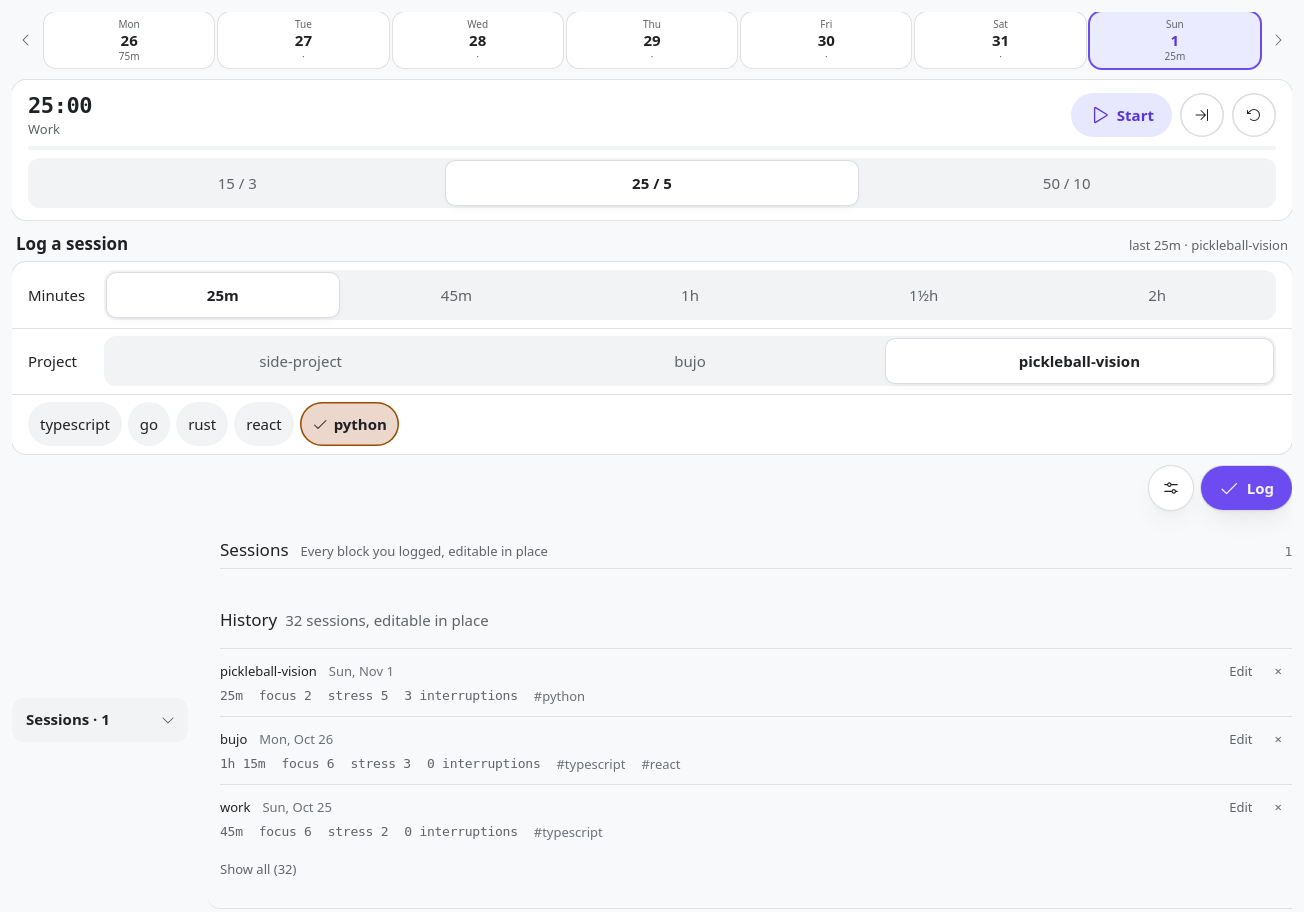
Test: Focus · on a phone › logs a session from taps alone, carrying the rest from the last one
The width and height of the screenshot is (1304, 912).
Click the radio button labelled "45m" at (456, 295), box [341,273,572,317]
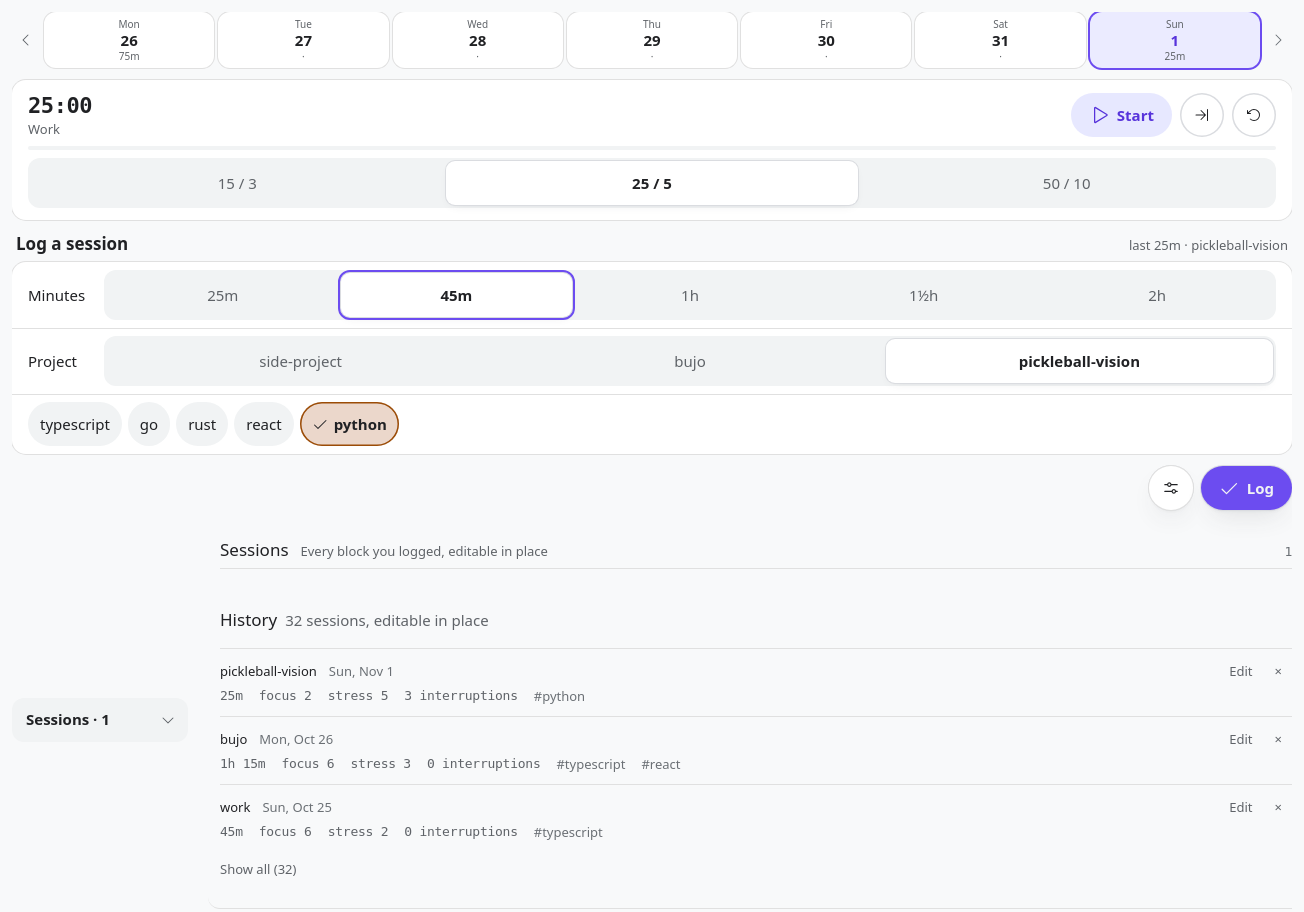
Click the radio button labelled "side-project" at (301, 361), box [107,339,494,383]
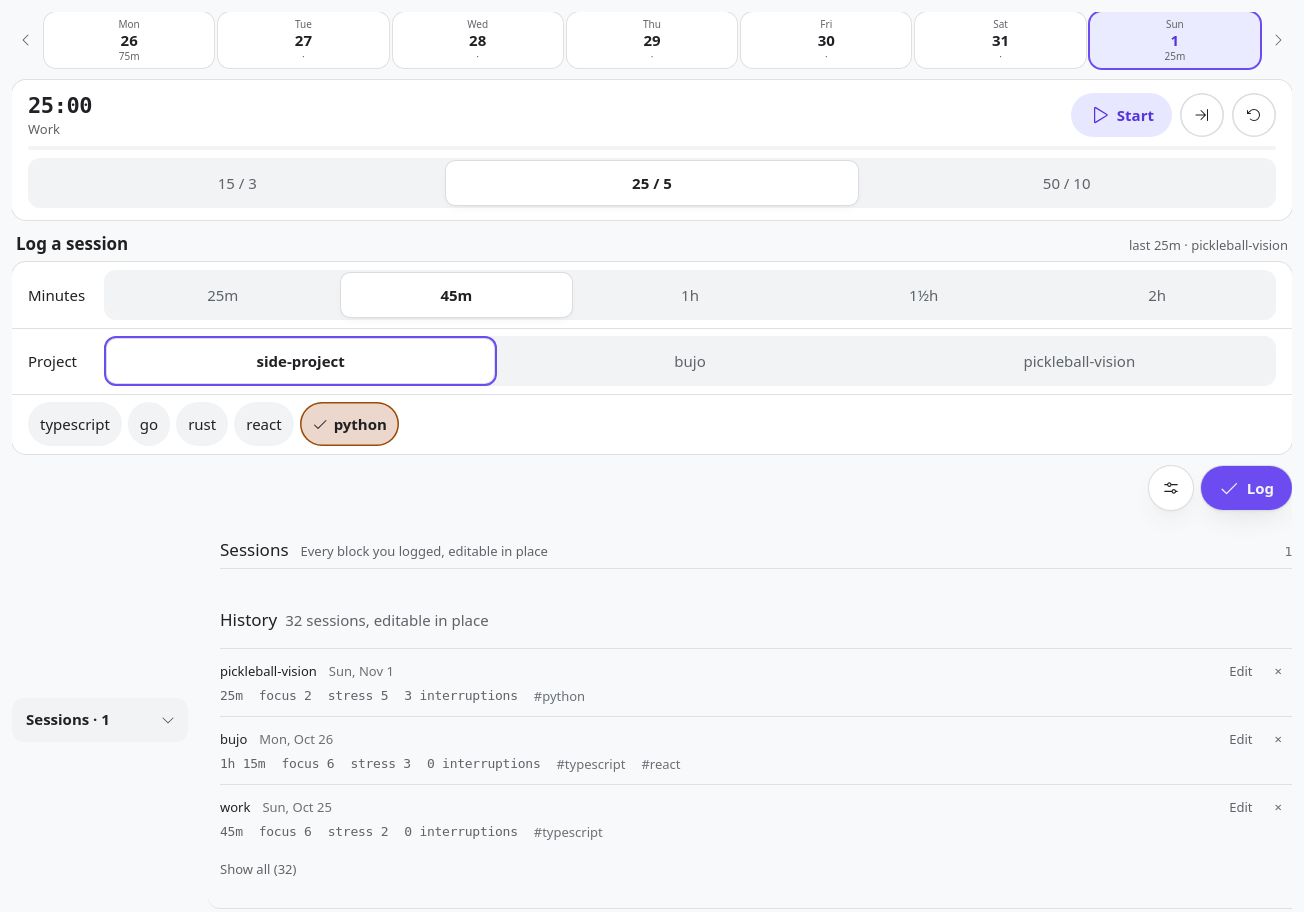
Click the button "typescript" at (75, 424), box [28,402,122,446]
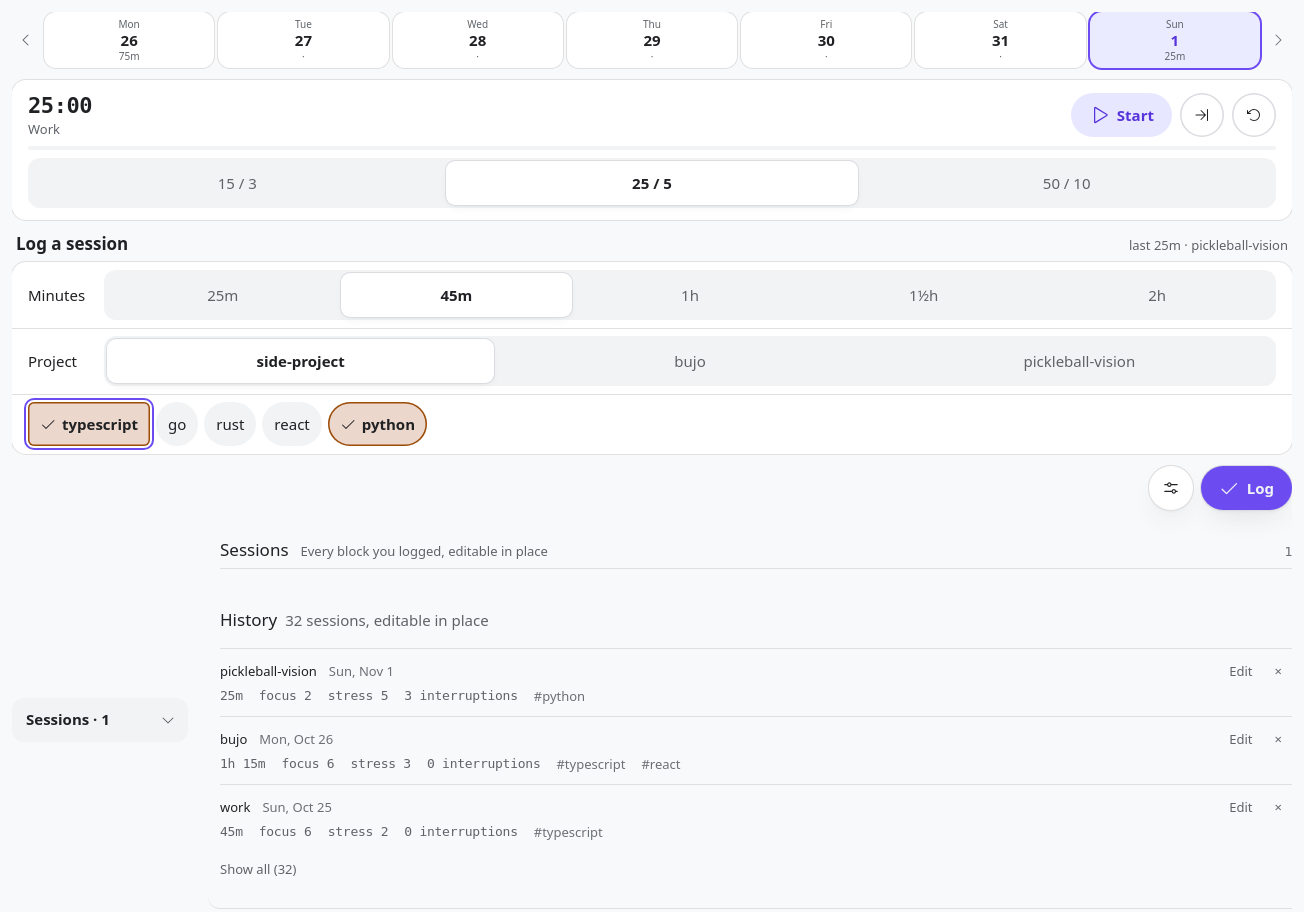
Click the radio button labelled "Sat 31 ·" at (1001, 40), box [915,12,1086,68]
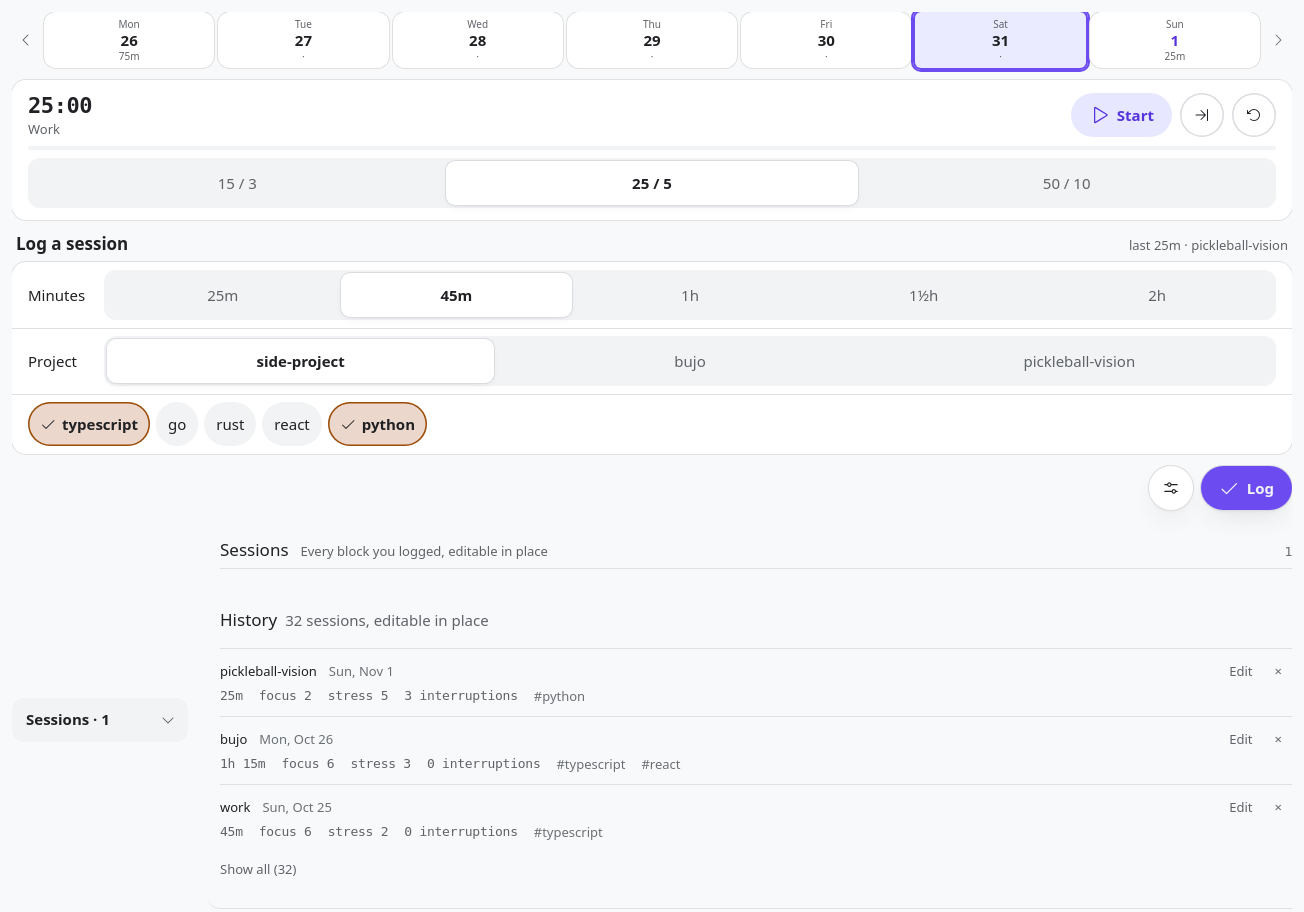
Click the button "Log" at (1246, 488), box [1201,466,1292,510]
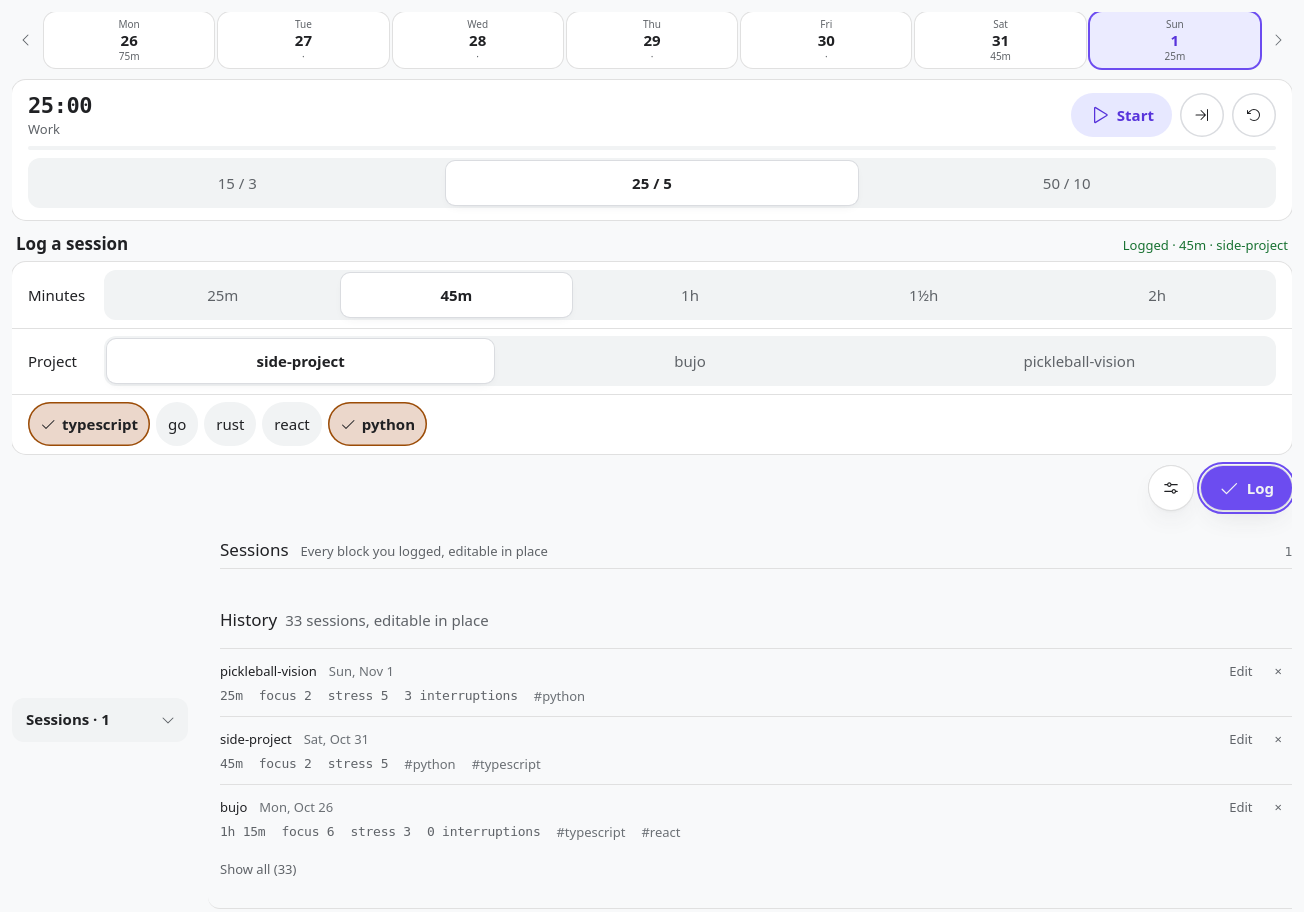
Expected: the radio button labelled "side-project" is shown, [107,339,494,383]
Expected: the 1st text "45m" is shown, [990,50,1011,62]
